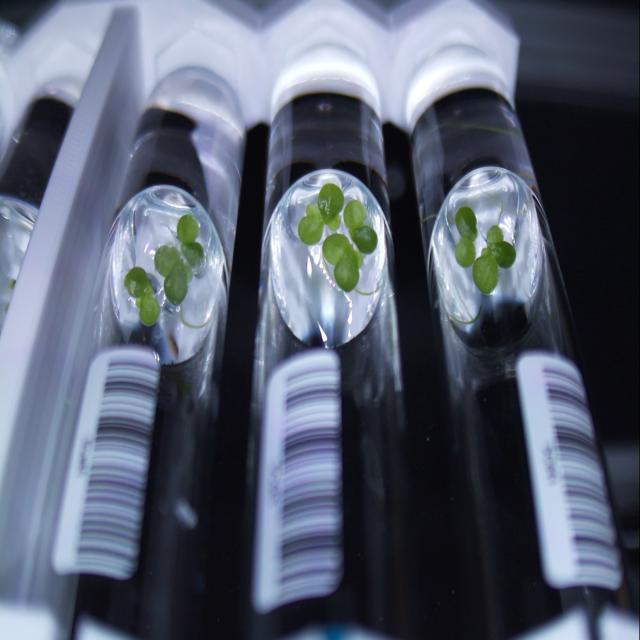Lemna-Gibba: (472, 225, 516, 295), (298, 183, 344, 245), (322, 233, 362, 292), (154, 245, 191, 305), (124, 267, 160, 325), (344, 200, 378, 254), (176, 213, 204, 269), (455, 205, 478, 267)
